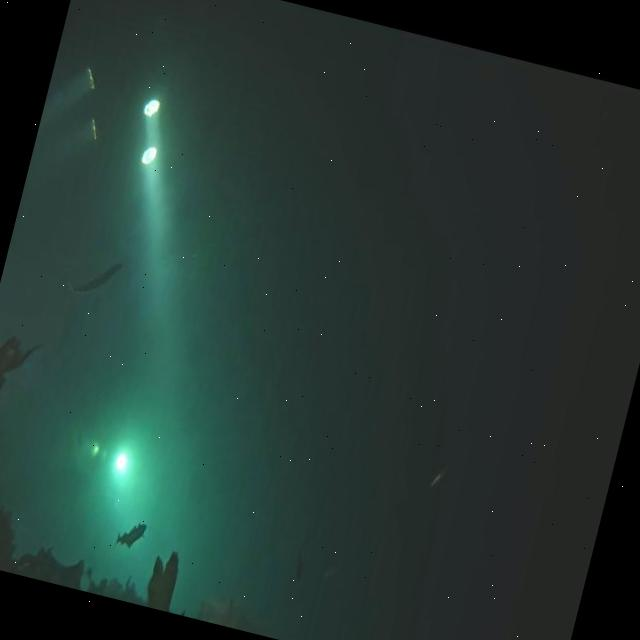fish: (66, 251, 122, 302), (114, 516, 147, 552), (427, 456, 453, 494)
